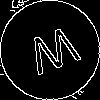W: (25, 25, 85, 85)
